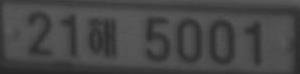0: (209, 19, 234, 64), (177, 17, 202, 60)
1: (59, 13, 81, 55), (244, 21, 265, 63)
2: (27, 11, 53, 55)
5: (146, 16, 169, 60)
해: (88, 18, 117, 56)
